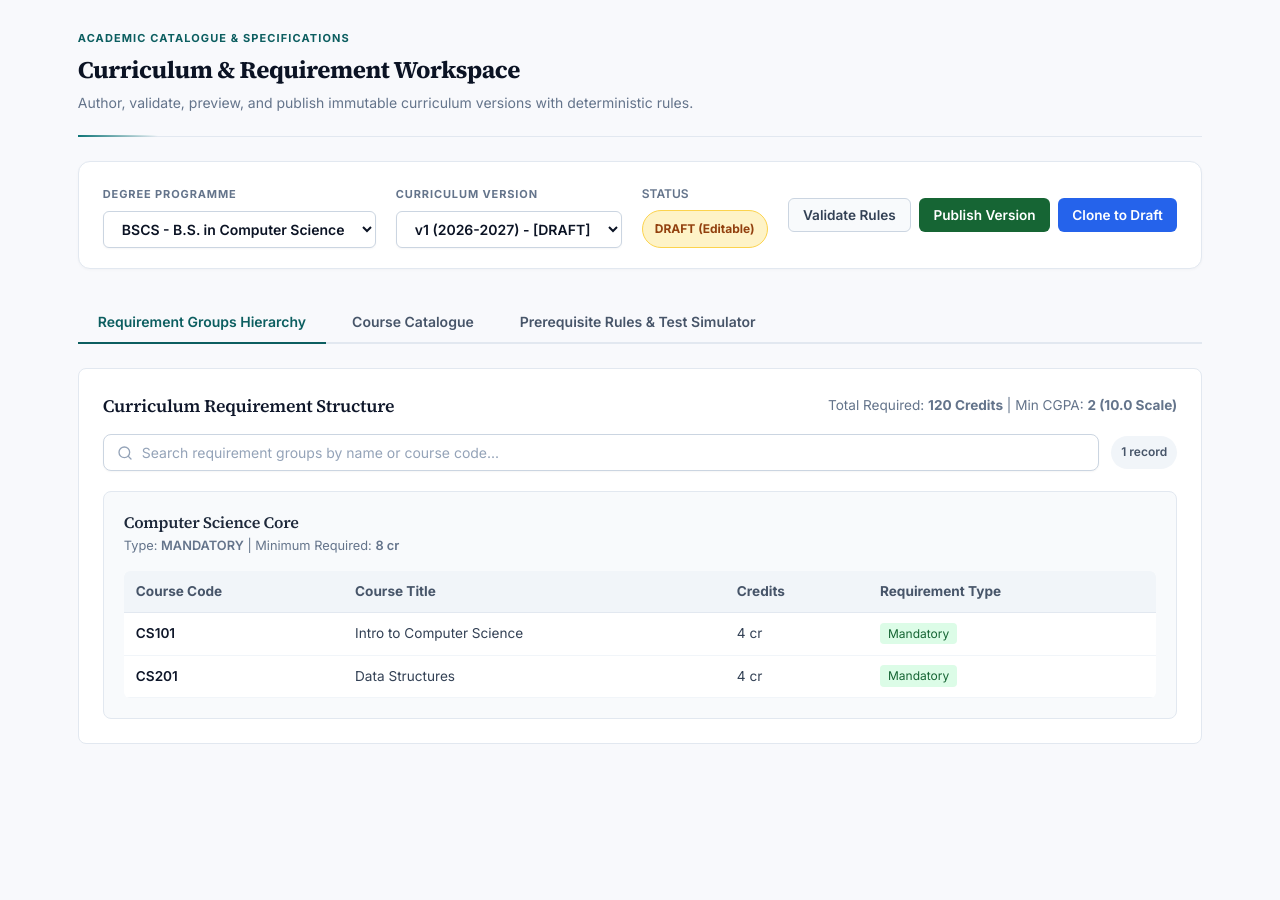
it: CurriculumWorkspacePage › opens Publish Modal when clicking publish on draft version
Click the button "Publish Version" at (985, 215), box [919, 198, 1050, 232]
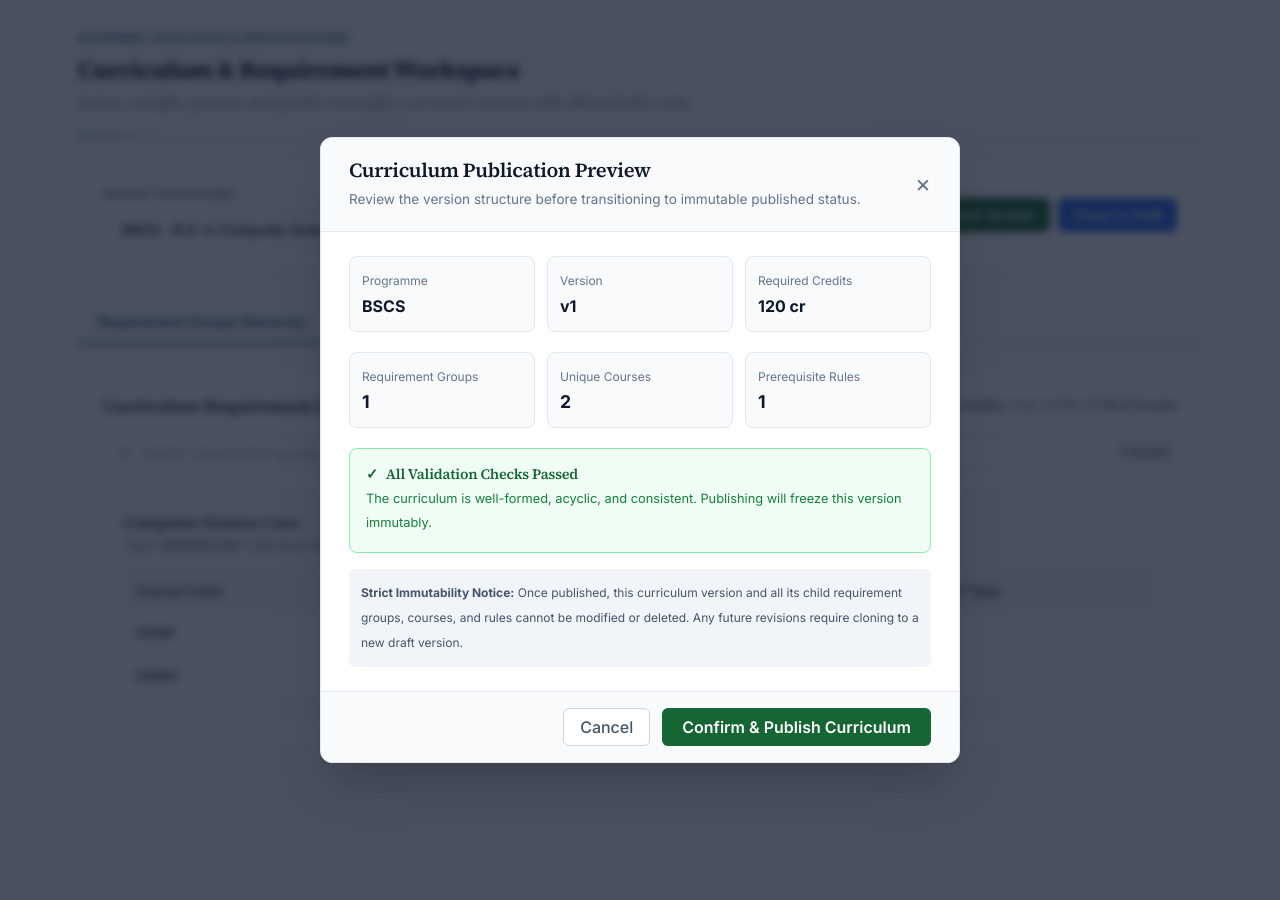
Check: the heading "Curriculum Publication Preview" is shown, box [349, 156, 651, 184]
Check: the text "Strict Immutability Notice:" is shown, box [361, 585, 514, 600]
